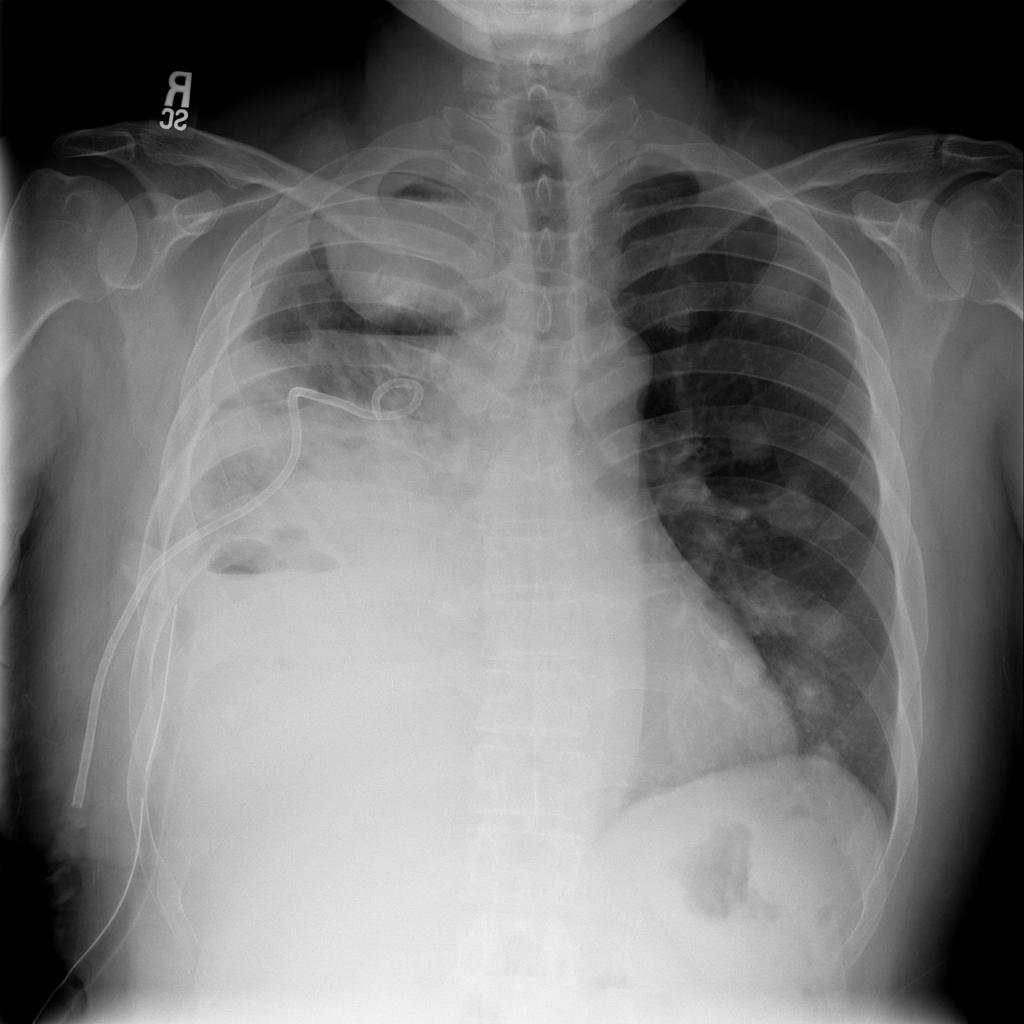nodule: (735, 232, 833, 334), (752, 464, 831, 544), (732, 568, 811, 645), (716, 405, 788, 478), (798, 398, 870, 467), (712, 637, 781, 708), (790, 588, 859, 658), (782, 668, 848, 735), (799, 732, 853, 781)
